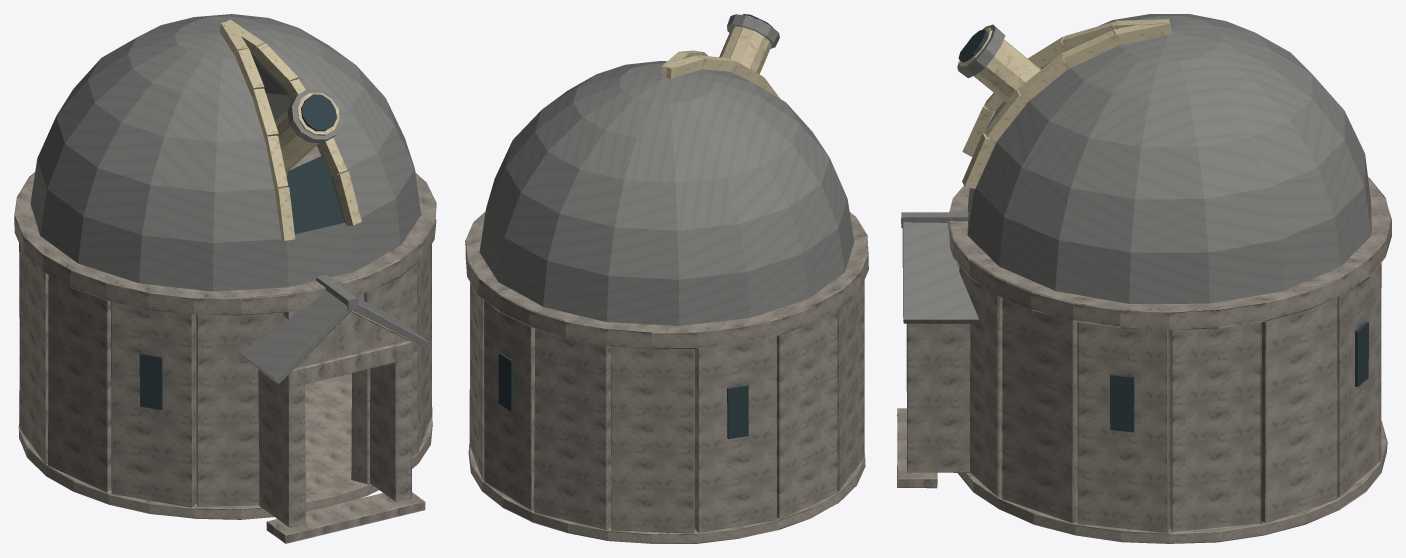
The model's file is observatory.glb.
The picture shows the model from 3 angles, left to right: view 1: azimuth 30°, elevation 25°; view 2: azimuth 150°, elevation 25°; view 3: azimuth 270°, elevation 25°; orthographic projection. The views are drawn at different scales.
Parts seen in each view (by area): view 1: Observatory; view 2: Observatory; view 3: Observatory.
Part boxes in pixels (<box>): Observatory: <box>14,14,436,543</box>; Observatory: <box>465,14,868,543</box>; Observatory: <box>897,14,1391,543</box>.
Bounding box in the file's own units: 6.17 × 6.62 × 6.87.
4 materials, 3 textured.
